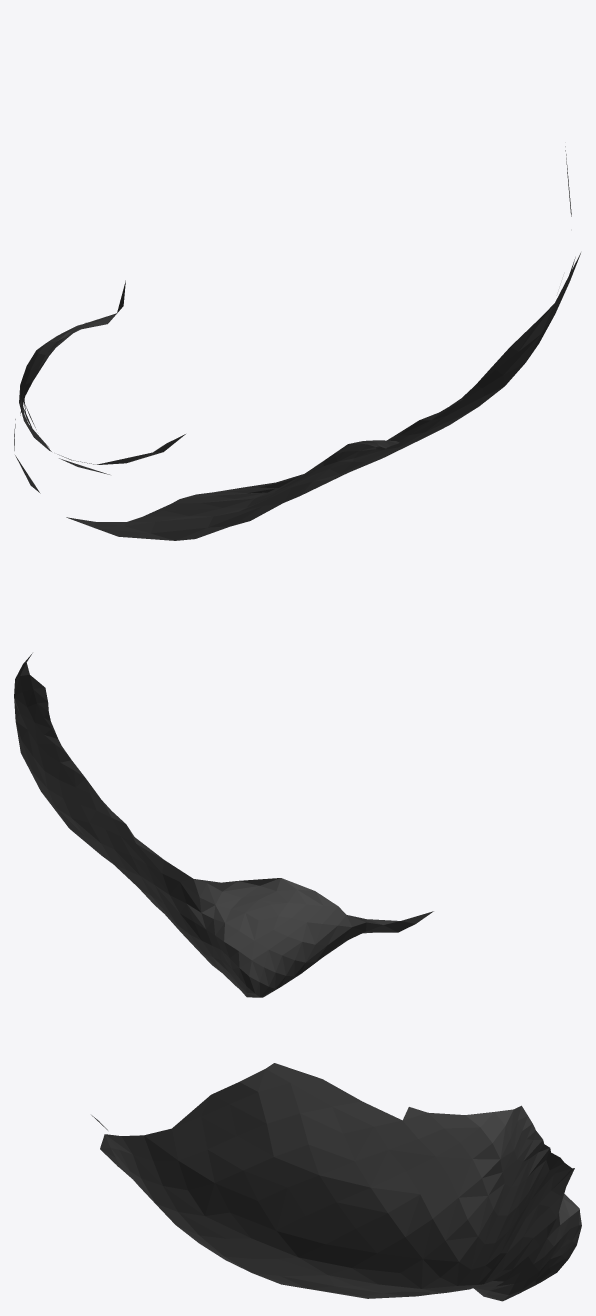
The model's file is ligament_intermediate_patellar_cut_e.glb.
3 renders of one model, top to bottom at view 1: azimuth 30°, elevation 25°; view 2: azimuth 150°, elevation 25°; view 3: azimuth 270°, elevation 25°, orthographic. The views are drawn at different scales.
Parts seen in each view (by area): view 1: ligament_intermediate_patellar_cut_e; view 2: ligament_intermediate_patellar_cut_e; view 3: ligament_intermediate_patellar_cut_e.
Boxes of the visible parts, left/top/right/bottom form: ligament_intermediate_patellar_cut_e: left=14, top=146, right=580, bottom=540; ligament_intermediate_patellar_cut_e: left=14, top=653, right=433, bottom=997; ligament_intermediate_patellar_cut_e: left=91, top=1063, right=581, bottom=1301.
Size of the model in its own units: 0.00205 by 0.0015 by 0.0022.
1 material, 1 textured.
